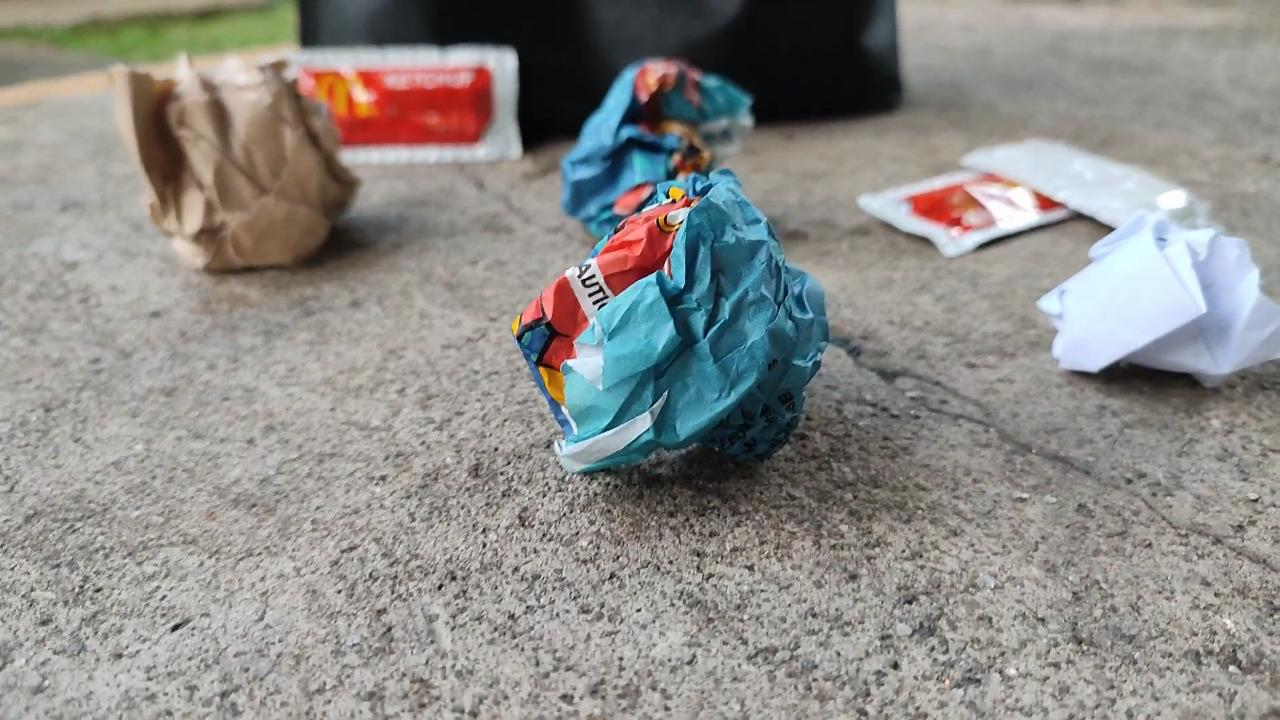Paper: (487, 172, 840, 511), (97, 45, 370, 272), (1021, 204, 1280, 400), (552, 45, 769, 264)
